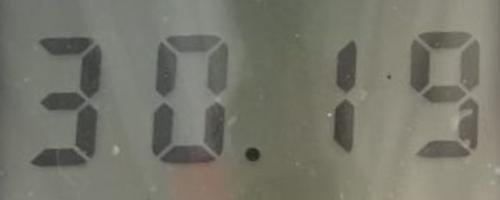.: (241, 141, 264, 172)
